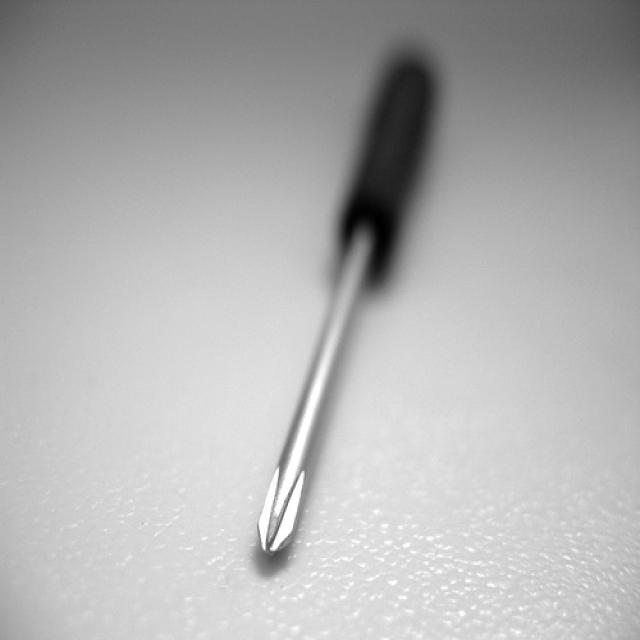screw driver: (234, 18, 487, 598)
